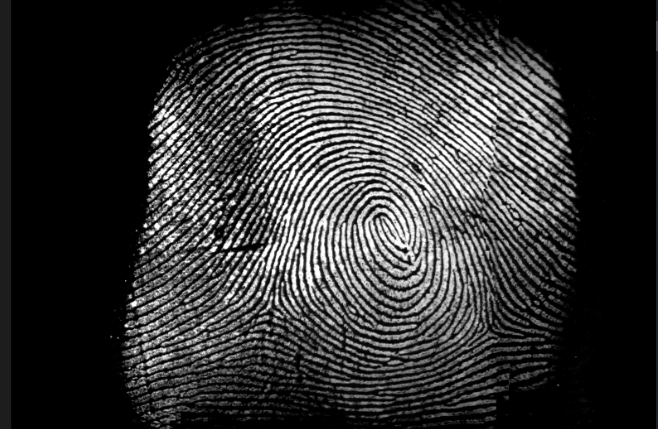deltas: (238, 273, 302, 334), (464, 299, 515, 350)
nucleo: (348, 192, 420, 265)
